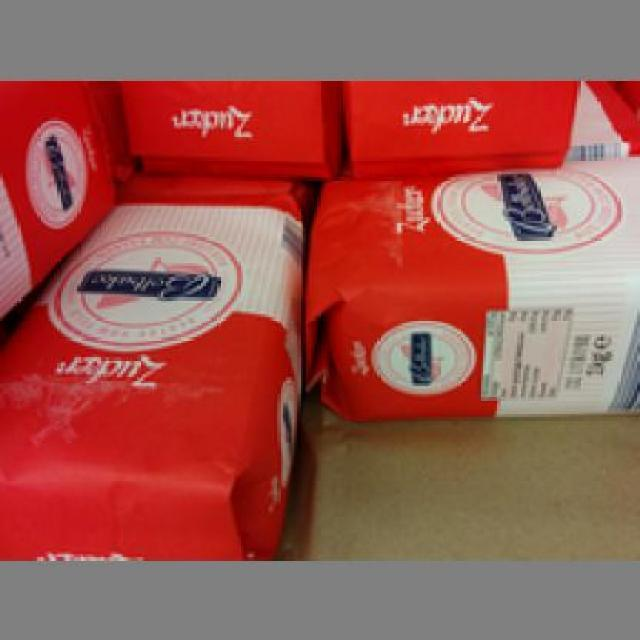Flour: (0, 197, 300, 557), (305, 154, 638, 426)
